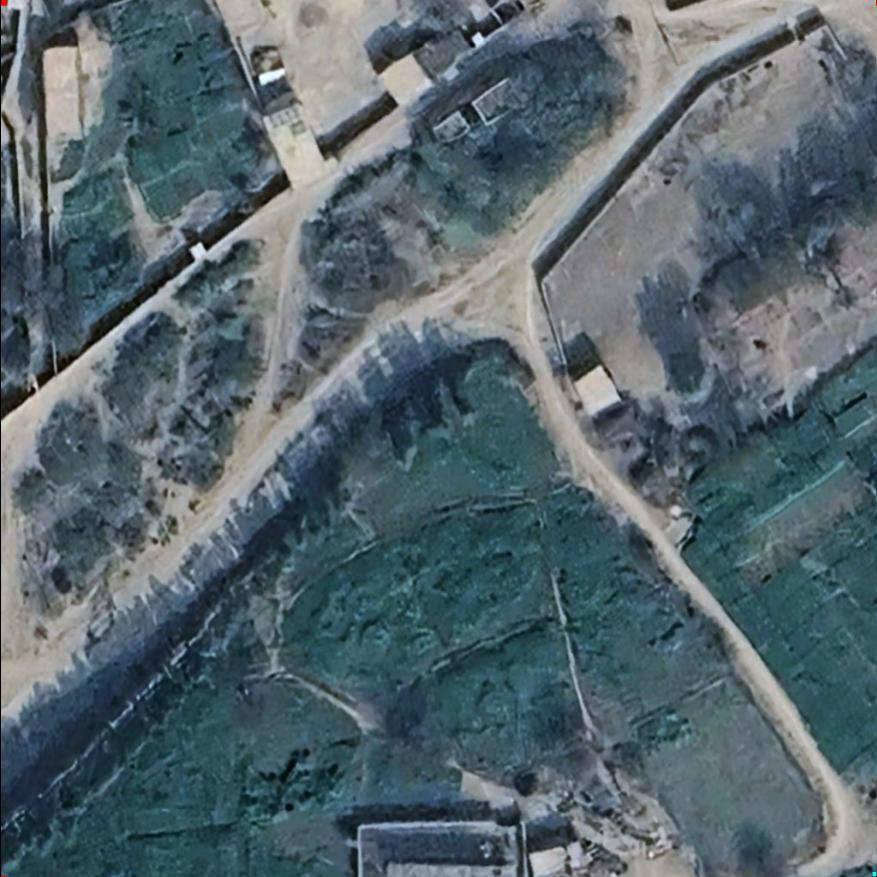Solarpanel: (259, 102, 309, 145)
